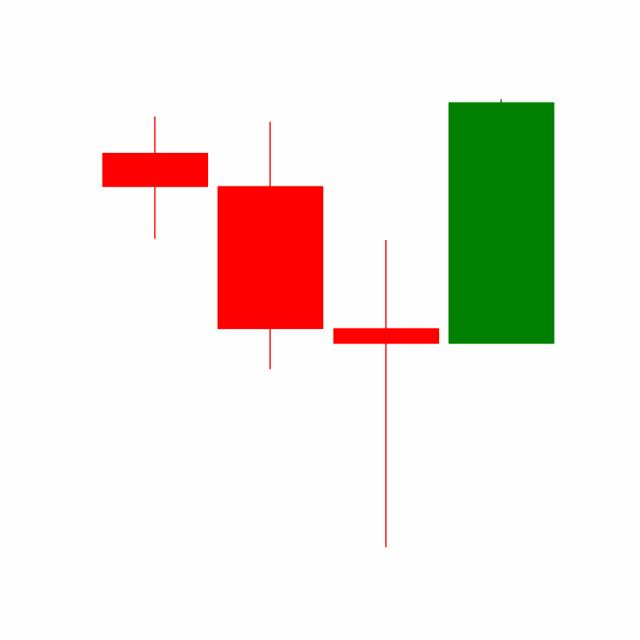Spinning Top: (328, 236, 444, 551)
